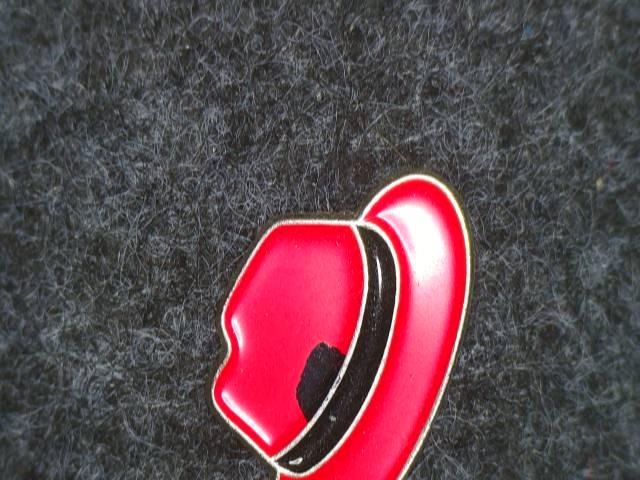Red-Hat: (167, 150, 524, 480)
Scratch: (280, 324, 362, 434)
